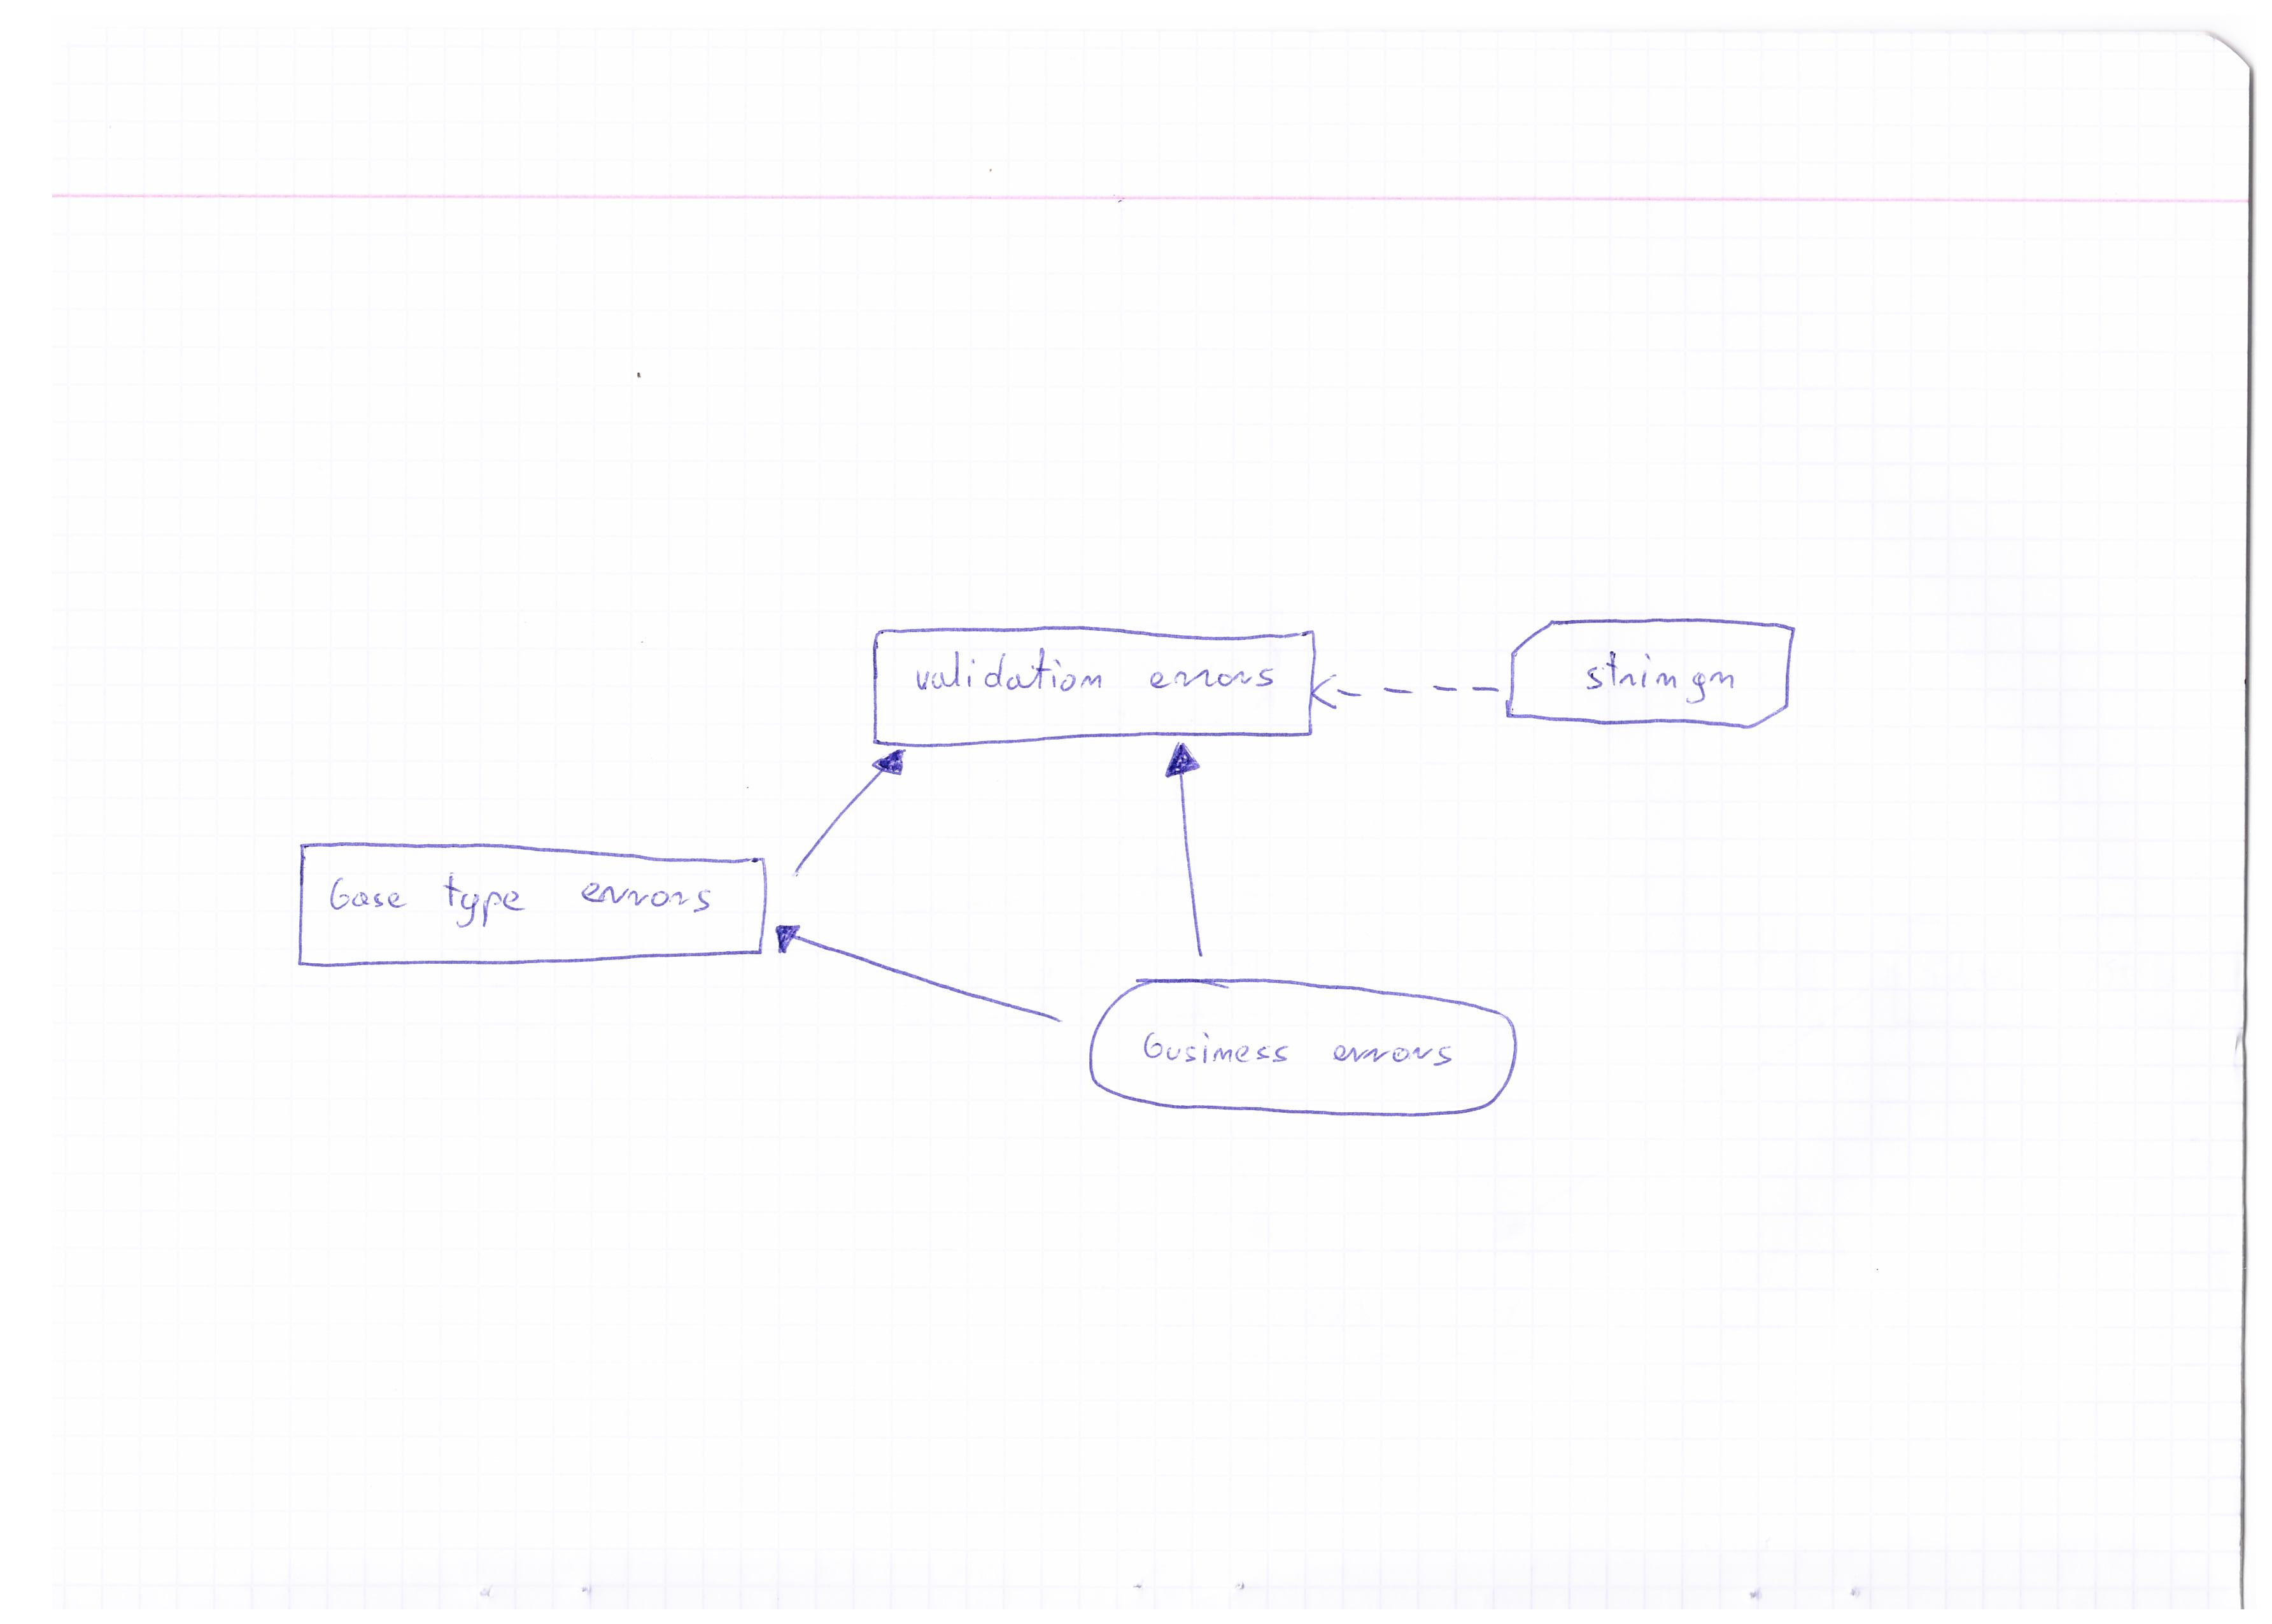arrow_information_requirement: (766, 910, 1070, 1046), (784, 740, 914, 888), (1156, 736, 1228, 967)
arrow_knowledge_requirement: (1300, 663, 1504, 724)
node_decision: (286, 831, 775, 975), (857, 612, 1320, 745)
node_input_data: (1079, 972, 1538, 1127)
node_knowledge_model: (1502, 606, 1799, 742)
text: (320, 865, 724, 937), (903, 642, 1288, 707), (1125, 1011, 1464, 1083), (1564, 636, 1750, 712)
